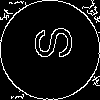S: (25, 25, 73, 62)
